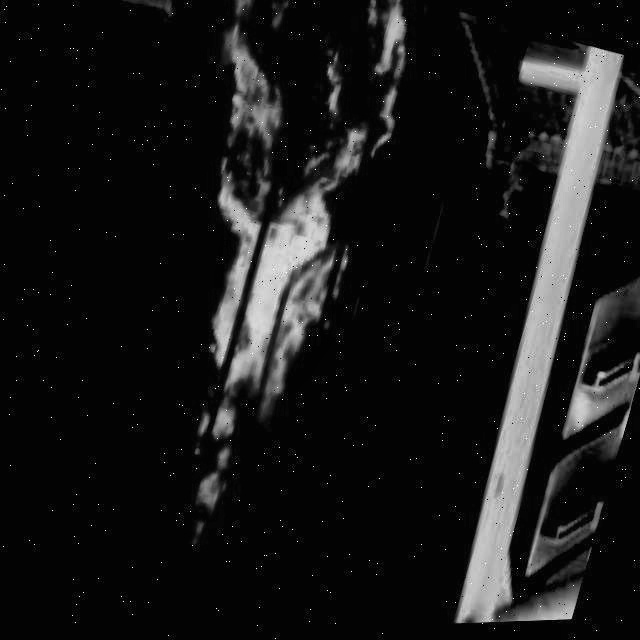Fire: (89, 0, 441, 549)
